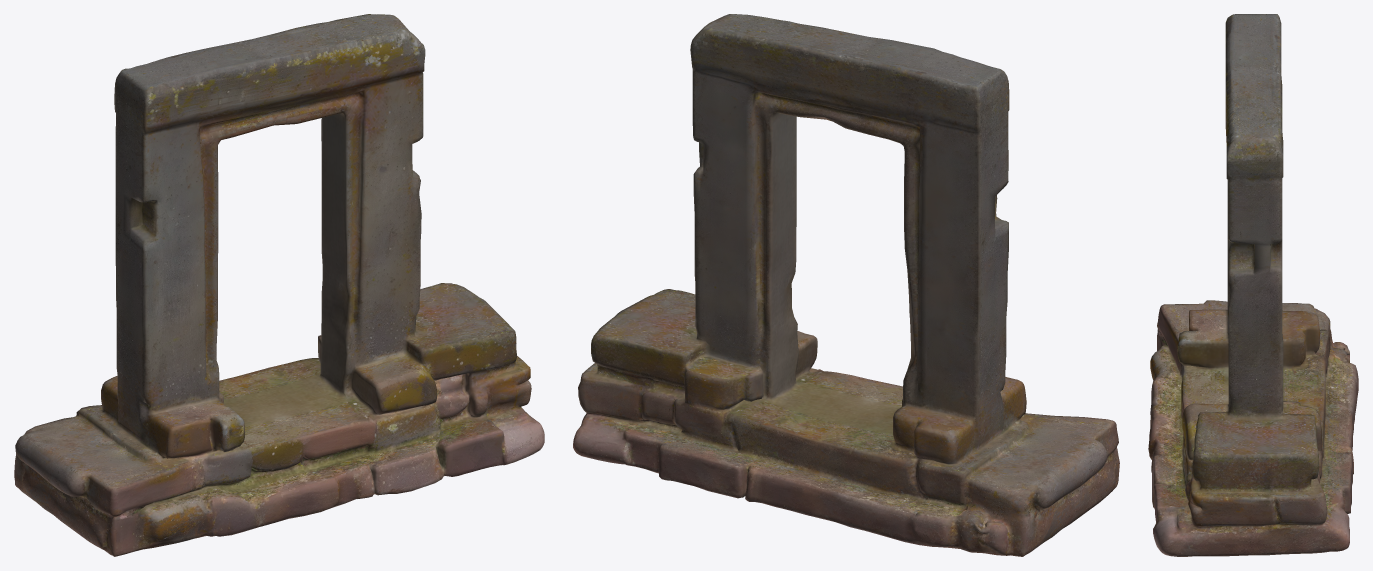
The model's file is luna.glb.
3 views of the same model, side by side, from view 1: azimuth 30°, elevation 25°; view 2: azimuth 150°, elevation 25°; view 3: azimuth 270°, elevation 25° (orthographic). The views are drawn at different scales.
Parts seen in each view (by area): view 1: tripo_node_053554b3-5caa-4b65-91bf-55d9b4f39fcd; view 2: tripo_node_053554b3-5caa-4b65-91bf-55d9b4f39fcd; view 3: tripo_node_053554b3-5caa-4b65-91bf-55d9b4f39fcd.
Part boxes in pixels (box(x1,y1,x2,y2)): tripo_node_053554b3-5caa-4b65-91bf-55d9b4f39fcd: box(14, 14, 544, 556); tripo_node_053554b3-5caa-4b65-91bf-55d9b4f39fcd: box(573, 14, 1119, 556); tripo_node_053554b3-5caa-4b65-91bf-55d9b4f39fcd: box(1148, 14, 1358, 556).
Size of the model in its own units: 0.998 by 0.8887 by 0.4355.
Materials: 1 (1 with a texture image).
